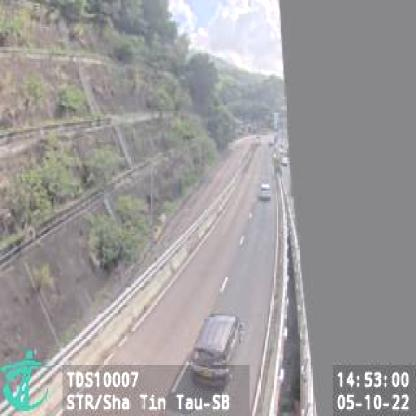Car: (190, 312, 238, 388), (258, 180, 270, 198)
